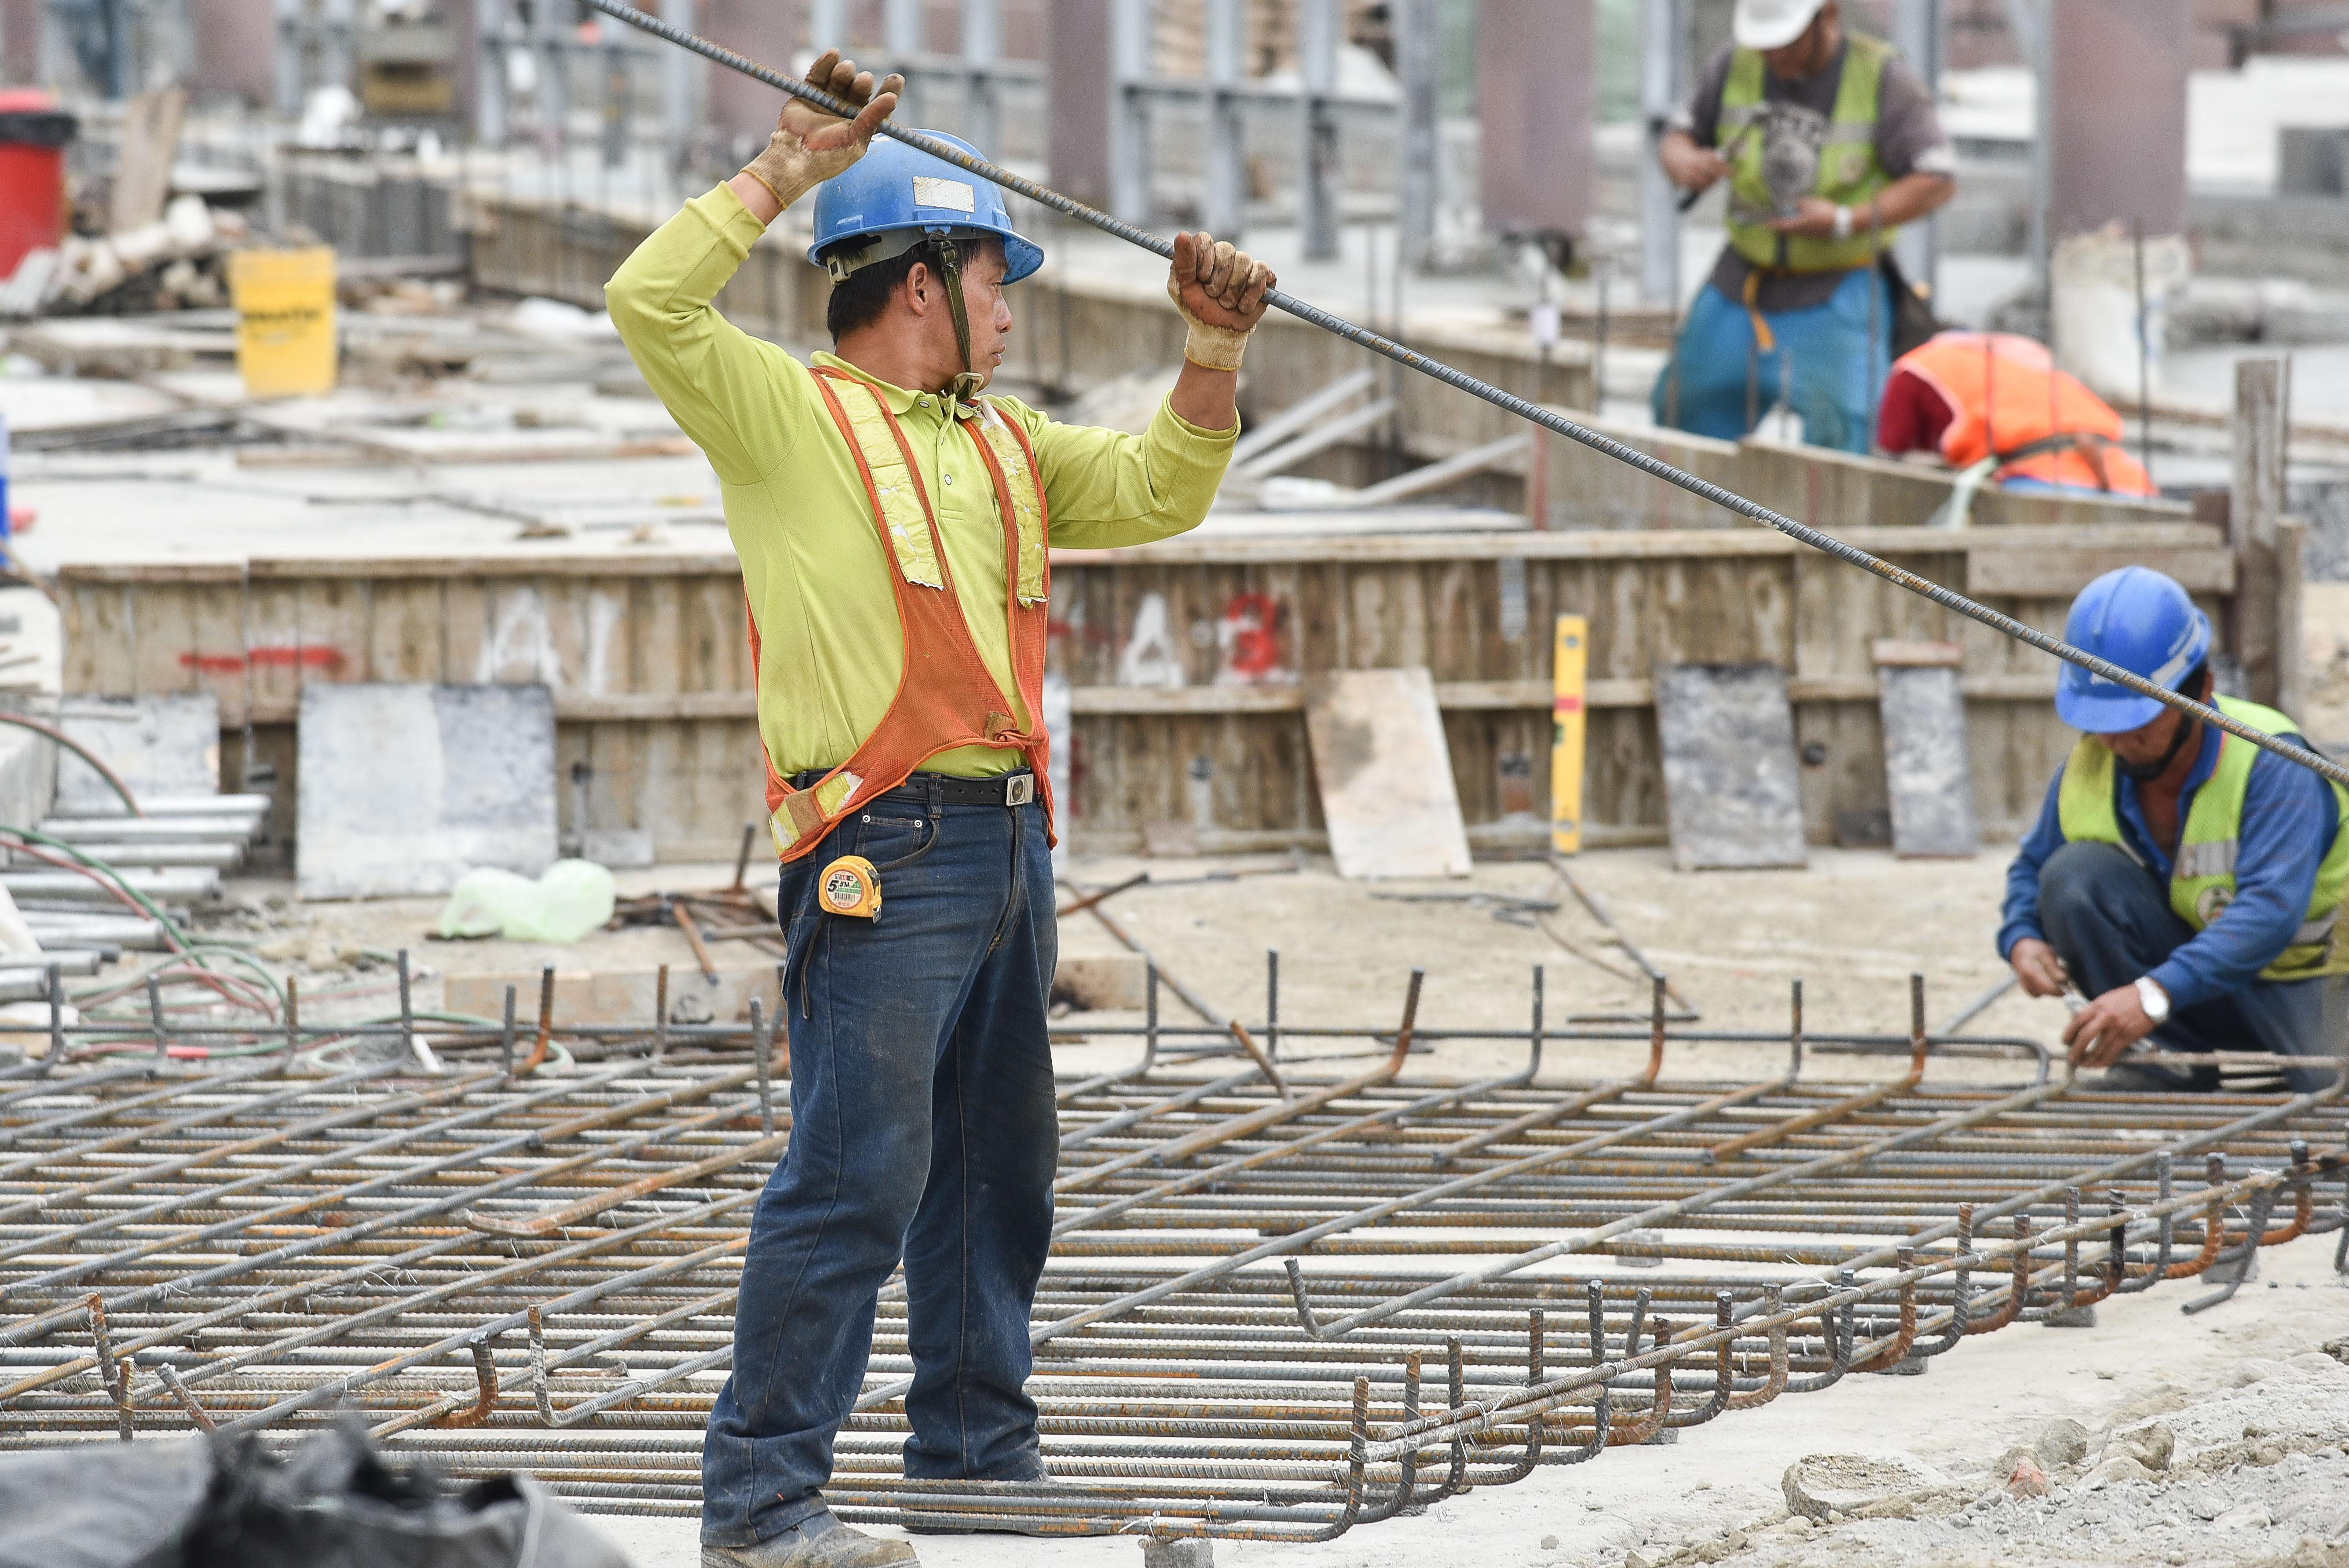helmet: (809, 124, 1047, 285), (2051, 572, 2207, 733), (1729, 0, 1824, 54)
